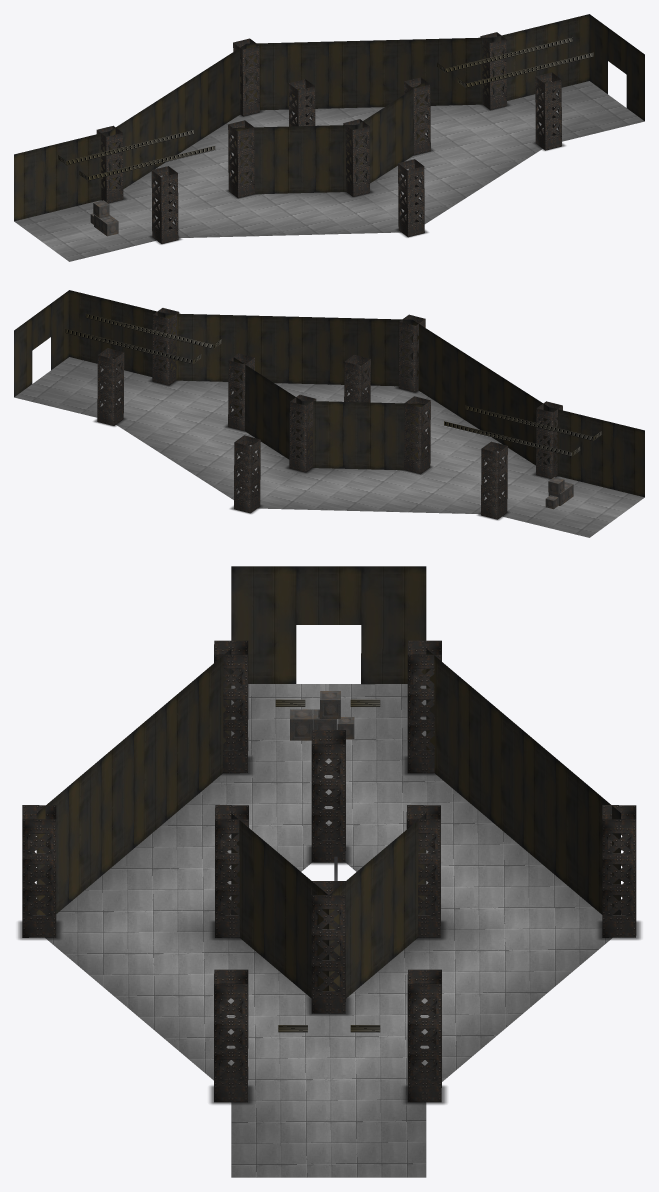
The model's file is room_25.glb.
3 renders of one model, top to bottom at view 1: azimuth 30°, elevation 25°; view 2: azimuth 150°, elevation 25°; view 3: azimuth 270°, elevation 25°, orthographic. The views are drawn at different scales.
Visible parts, largest first — view 1: floor, props (×10), W14, W10, W2, W13, W16, W1, W15, LongLights_Lights2, LongLights_Lights6, LongLights_Lights1 (+2 smaller); view 2: floor, props (×10), W9, W8, W3, W12, W6, W4, W15, LongLights_Lights4, LongLights_Lights2, LongLights_Lights6 (+1 smaller); view 3: floor, props (×10), W10, W8, W11, W1, W4, wall31, wall, EMetalBox3.
Boxes of the visible parts, x1,y1,x2,y2 form: floor: (14, 81, 644, 261); props (×10): (96, 32, 561, 243); W14: (246, 37, 493, 110); W10: (110, 44, 246, 189); W2: (233, 124, 357, 194); W13: (14, 131, 109, 221); W16: (493, 14, 589, 100); W1: (357, 81, 425, 183); W15: (589, 14, 644, 120); LongLights_Lights2: (457, 52, 593, 87); LongLights_Lights6: (79, 146, 215, 180); LongLights_Lights1: (437, 37, 572, 72); floor: (14, 357, 644, 537); props (×10): (97, 308, 562, 519); W9: (165, 313, 412, 386); W8: (412, 320, 548, 465); W3: (301, 400, 425, 470); W12: (549, 407, 644, 497); W6: (69, 290, 165, 376); W4: (233, 357, 301, 459); W15: (14, 290, 69, 396); LongLights_Lights4: (444, 421, 580, 456); LongLights_Lights2: (85, 314, 221, 348); LongLights_Lights6: (465, 405, 601, 440); floor: (45, 684, 611, 1177); props (×10): (22, 640, 636, 1101); W10: (426, 649, 620, 914); W8: (36, 649, 231, 914); W11: (231, 566, 426, 624); W1: (231, 813, 328, 997); W4: (329, 813, 426, 998); wall31: (231, 625, 296, 683); wall: (361, 625, 426, 684); EMetalBox3: (290, 709, 337, 740).
Bounding box in the file's own units: 270 × 31.22 × 146.
13 materials, 13 textured.
